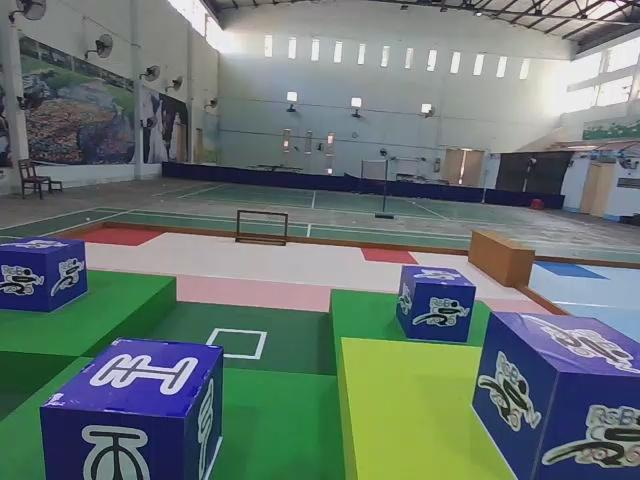R1 Blue: (474, 312, 640, 480), (0, 237, 87, 315), (394, 267, 476, 347)
R2 Fake Blue: (42, 337, 224, 480)
